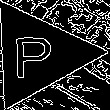P_N: (16, 28, 60, 80)
